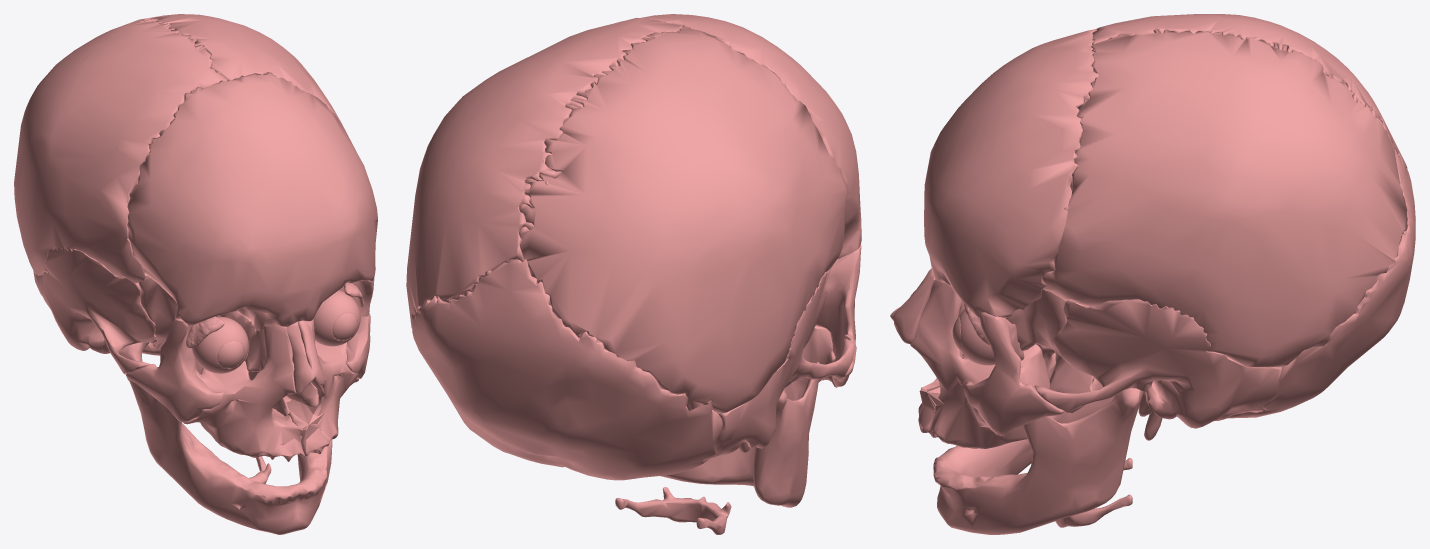
Rendered from skull.glb.
The picture shows the model from 3 angles, left to right: view 1: azimuth 30°, elevation 25°; view 2: azimuth 150°, elevation 25°; view 3: azimuth 270°, elevation 25°; orthographic projection. The views are drawn at different scales.
Parts seen in each view (by area): view 1: skull; view 2: skull; view 3: skull.
Boxes of the visible parts, left/top/right/bottom form: skull: left=14, top=14, right=377, bottom=534; skull: left=406, top=14, right=861, bottom=534; skull: left=890, top=14, right=1415, bottom=534.
Size of the model in its own units: 0.151 by 0.2146 by 0.2088.
